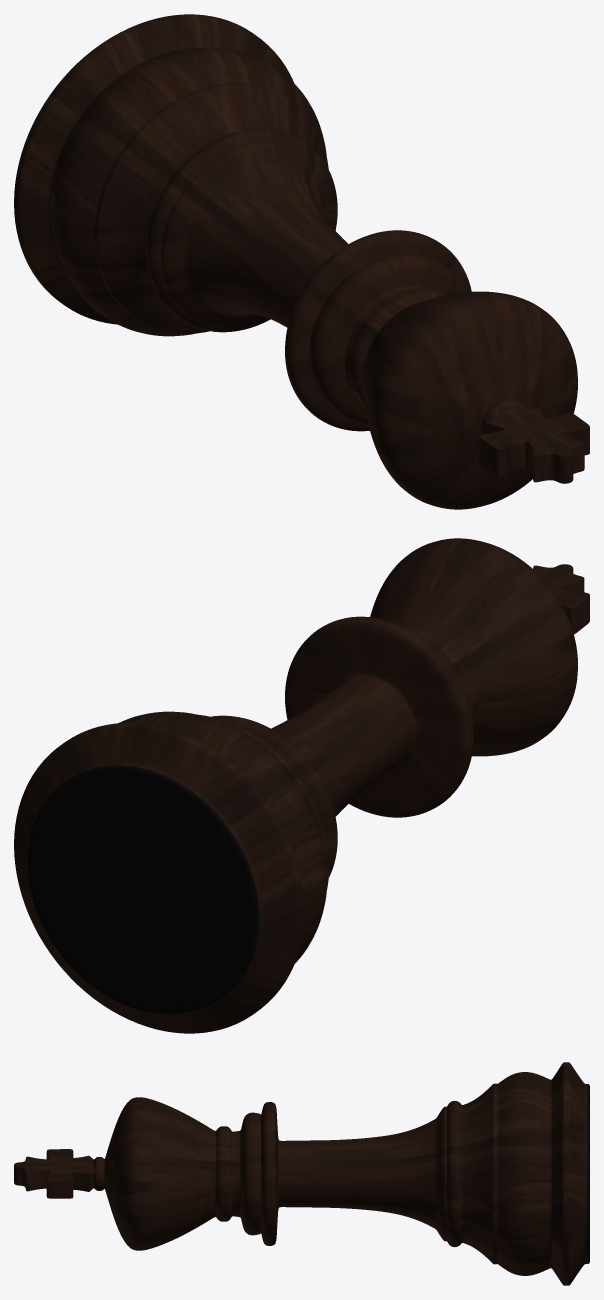
File: king.glb
3 views of the same model, one above another, from view 1: azimuth 30°, elevation 25°; view 2: azimuth 150°, elevation 25°; view 3: azimuth 270°, elevation 25° (orthographic). The views are drawn at different scales.
Parts seen in each view (by area): view 1: Node1; view 2: Node1; view 3: Node1.
Part boxes in pixels (x1,y1,x2,y2): Node1: (14, 14, 589, 509); Node1: (14, 538, 589, 1033); Node1: (14, 1062, 589, 1285).
Bounding box in the file's own units: 4.46 × 4.46 × 11.5.
Materials: 1 (1 with a texture image).
